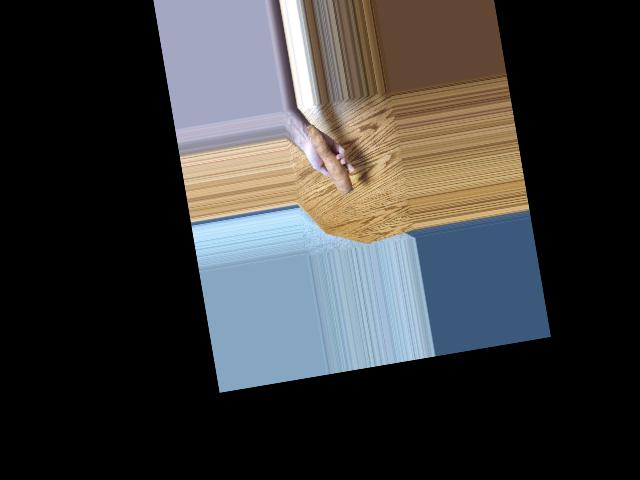sweet_potato: (304, 117, 355, 199)
